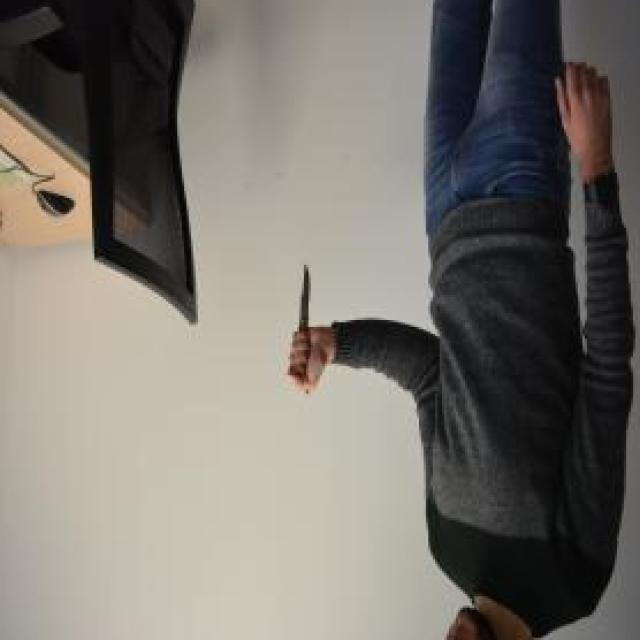knife: (295, 259, 314, 401)
